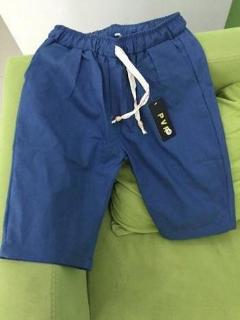shorts: (0, 11, 237, 271)
